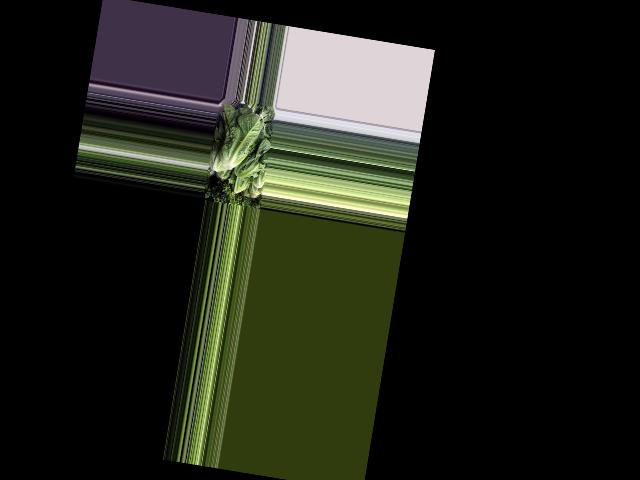lettuce: (234, 132, 269, 183)
